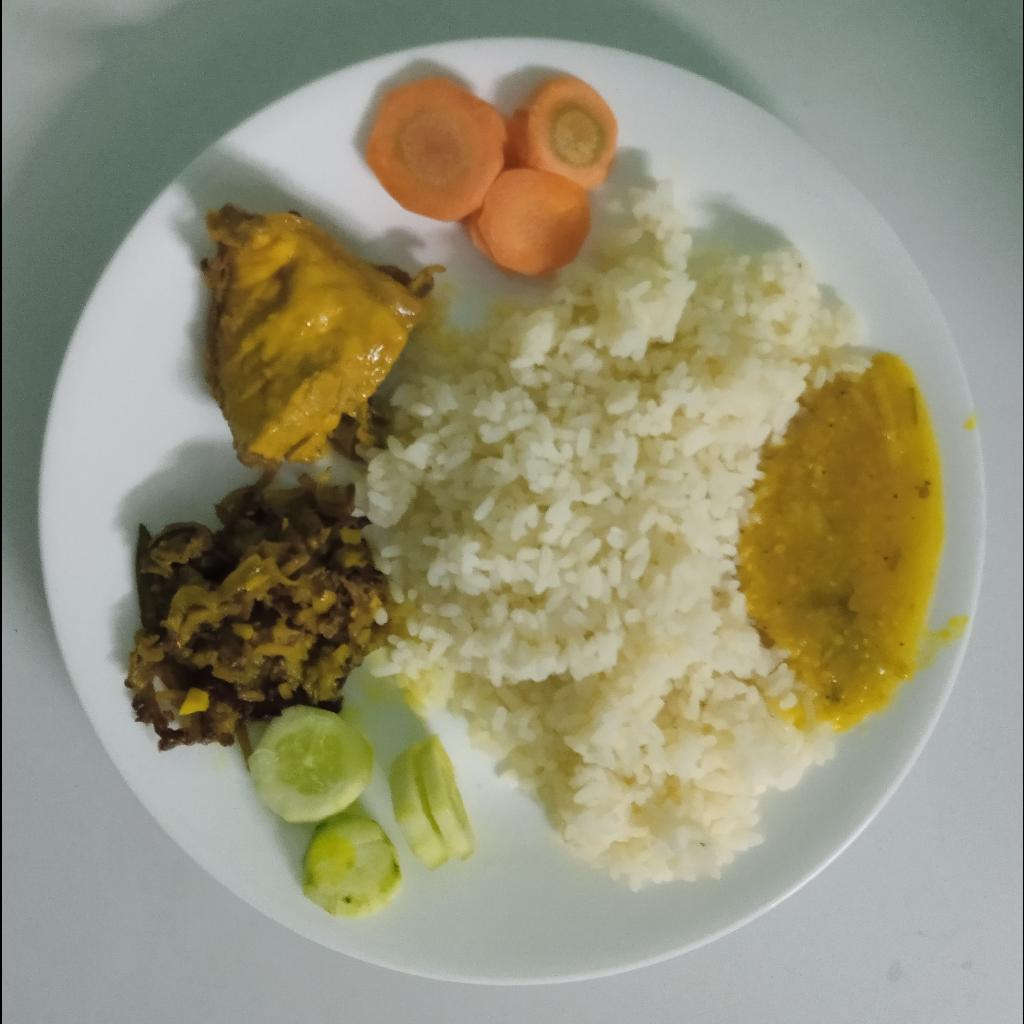carrot: (363, 75, 617, 278)
chicken: (197, 203, 438, 473)
cucumber: (243, 709, 403, 917), (389, 732, 476, 873)
daal: (741, 365, 935, 737)
dundol: (124, 481, 388, 749)
rice: (366, 182, 866, 896)
